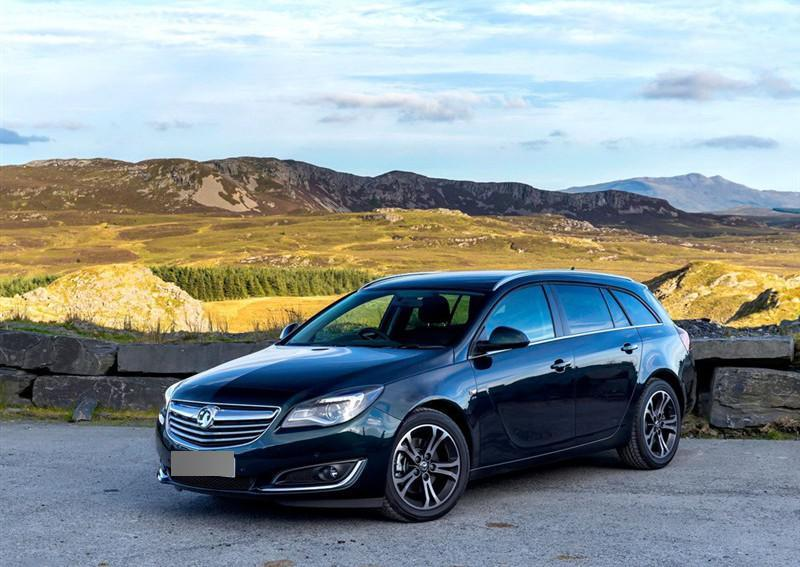Wagon: (155, 268, 699, 522)
